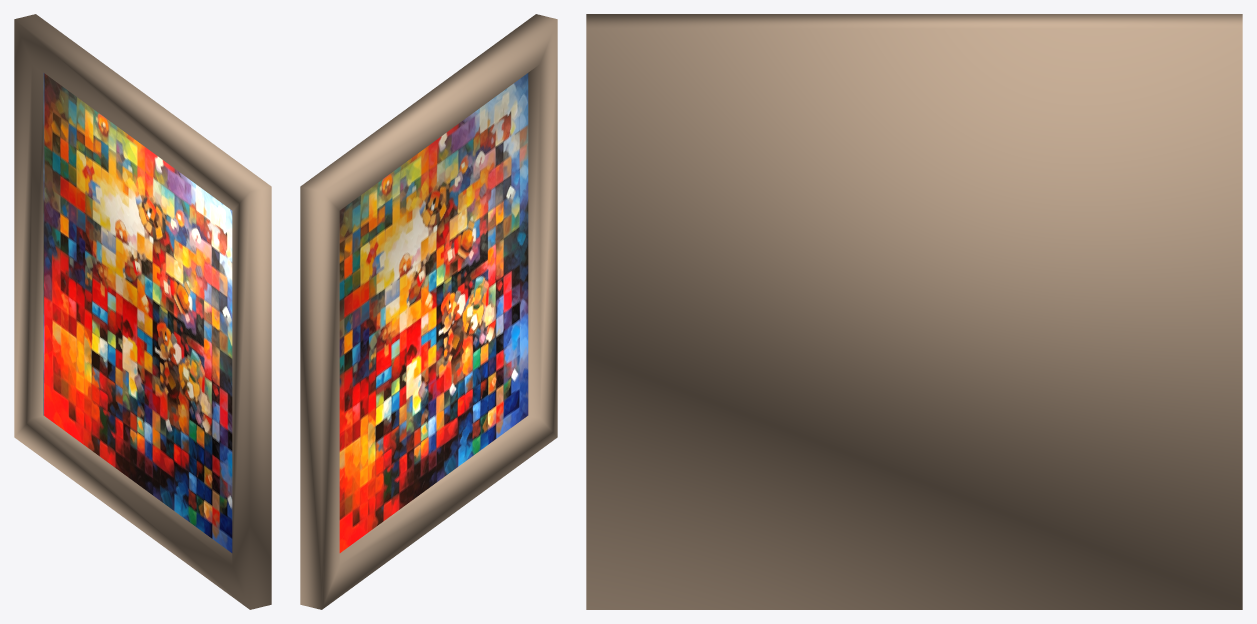
Rendered from DecorE.glb.
The picture shows the model from 3 angles, left to right: view 1: azimuth 30°, elevation 25°; view 2: azimuth 150°, elevation 25°; view 3: azimuth 270°, elevation 25°; orthographic projection. The views are drawn at different scales.
Visible parts, largest first — view 1: Cube.019; view 2: Cube.019; view 3: Cube.019.
Boxes of the visible parts, left/top/right/bottom form: Cube.019: left=14, top=14, right=271, bottom=609; Cube.019: left=300, top=14, right=557, bottom=609; Cube.019: left=586, top=14, right=1242, bottom=609.
Bounding box in the file's own units: 0.1 × 1.84 × 1.88.
Materials: 2 (1 with a texture image).
